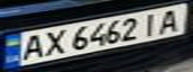2: (118, 15, 142, 43)
4: (87, 20, 109, 47)
6: (66, 22, 90, 51), (103, 17, 127, 46)
A: (15, 32, 48, 62), (154, 7, 187, 35)
I: (136, 10, 166, 37)
X: (36, 27, 69, 57)
